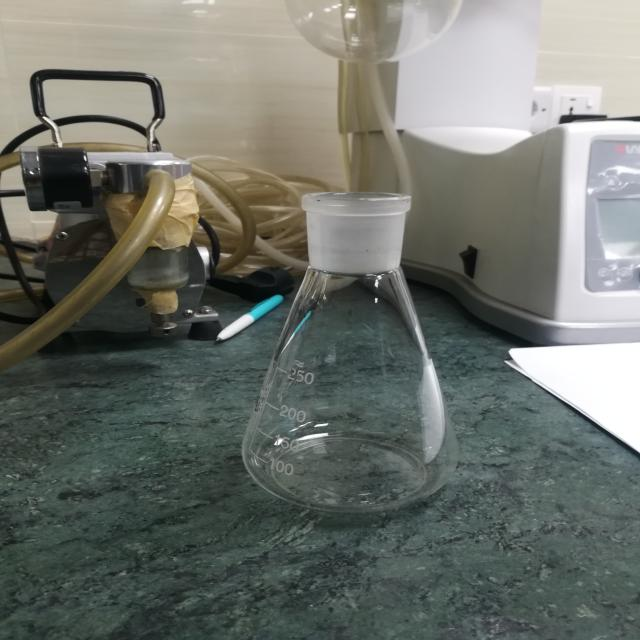Conical_Flask: (205, 147, 519, 544)
